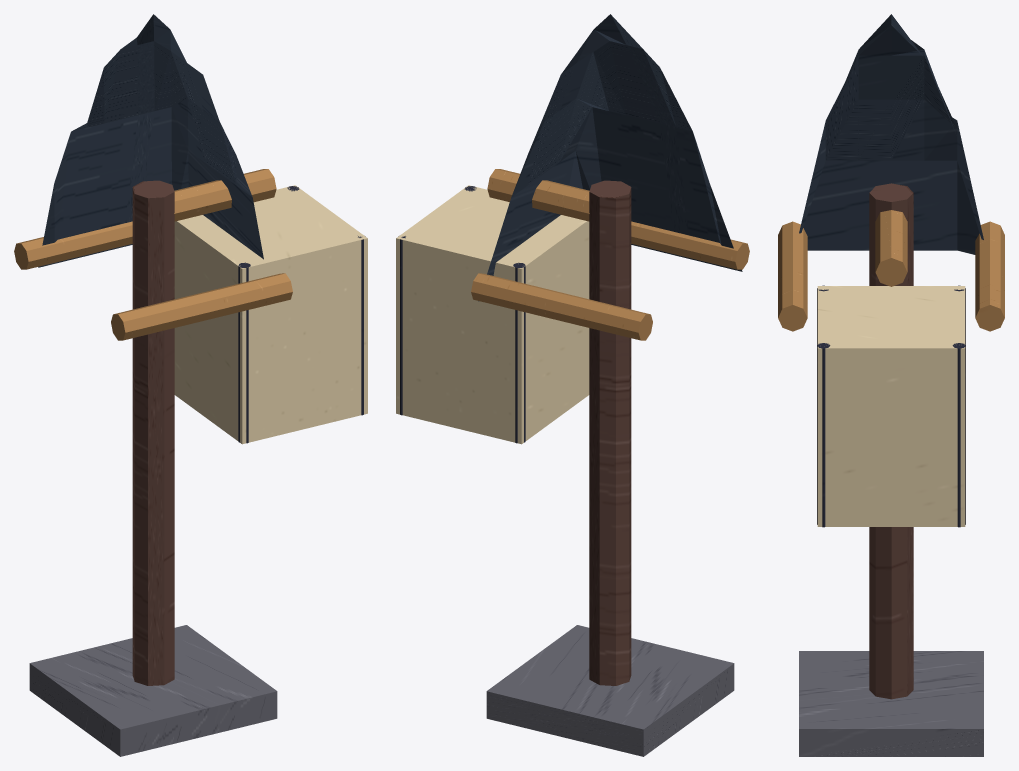
Rendered from shogun_street_lantern_lod0.glb.
The picture shows the model from 3 angles, left to right: view 1: azimuth 30°, elevation 25°; view 2: azimuth 150°, elevation 25°; view 3: azimuth 270°, elevation 25°; orthographic projection.
Parts seen in each view (by area): view 1: shogun_street_lantern_003, shogun_street_lantern_004, shogun_street_lantern_001, shogun_street_lantern_000, shogun_street_lantern_006, shogun_street_lantern_005, shogun_street_lantern_002, shogun_street_lantern_008; view 2: shogun_street_lantern_003, shogun_street_lantern_004, shogun_street_lantern_001, shogun_street_lantern_000, shogun_street_lantern_005, shogun_street_lantern_006, shogun_street_lantern_002, shogun_street_lantern_007; view 3: shogun_street_lantern_003, shogun_street_lantern_004, shogun_street_lantern_000, shogun_street_lantern_001, shogun_street_lantern_006, shogun_street_lantern_005, shogun_street_lantern_002, shogun_street_lantern_009, shogun_street_lantern_010.
Part boxes in pixels (x1,y1,x2,y2): shogun_street_lantern_003: (174, 185, 367, 444); shogun_street_lantern_004: (38, 14, 263, 267); shogun_street_lantern_001: (132, 180, 174, 685); shogun_street_lantern_000: (29, 625, 277, 756); shogun_street_lantern_006: (111, 273, 292, 340); shogun_street_lantern_005: (14, 221, 132, 269); shogun_street_lantern_002: (174, 169, 276, 221); shogun_street_lantern_008: (238, 262, 250, 443); shogun_street_lantern_003: (396, 185, 589, 444); shogun_street_lantern_004: (478, 14, 742, 301); shogun_street_lantern_001: (589, 180, 631, 685); shogun_street_lantern_000: (486, 625, 734, 756); shogun_street_lantern_005: (471, 273, 652, 340); shogun_street_lantern_006: (631, 221, 749, 269); shogun_street_lantern_002: (487, 169, 589, 221); shogun_street_lantern_007: (513, 262, 525, 443); shogun_street_lantern_003: (817, 286, 965, 526); shogun_street_lantern_004: (799, 14, 983, 254); shogun_street_lantern_000: (799, 651, 983, 756); shogun_street_lantern_001: (869, 183, 913, 699); shogun_street_lantern_006: (778, 221, 807, 331); shogun_street_lantern_005: (975, 221, 1004, 331); shogun_street_lantern_002: (875, 210, 907, 286); shogun_street_lantern_009: (952, 343, 965, 527); shogun_street_lantern_010: (817, 343, 830, 527).
Bounding box in the file's own units: 2.51 × 6.3 × 1.84.
Materials: 6 (6 with a texture image).
